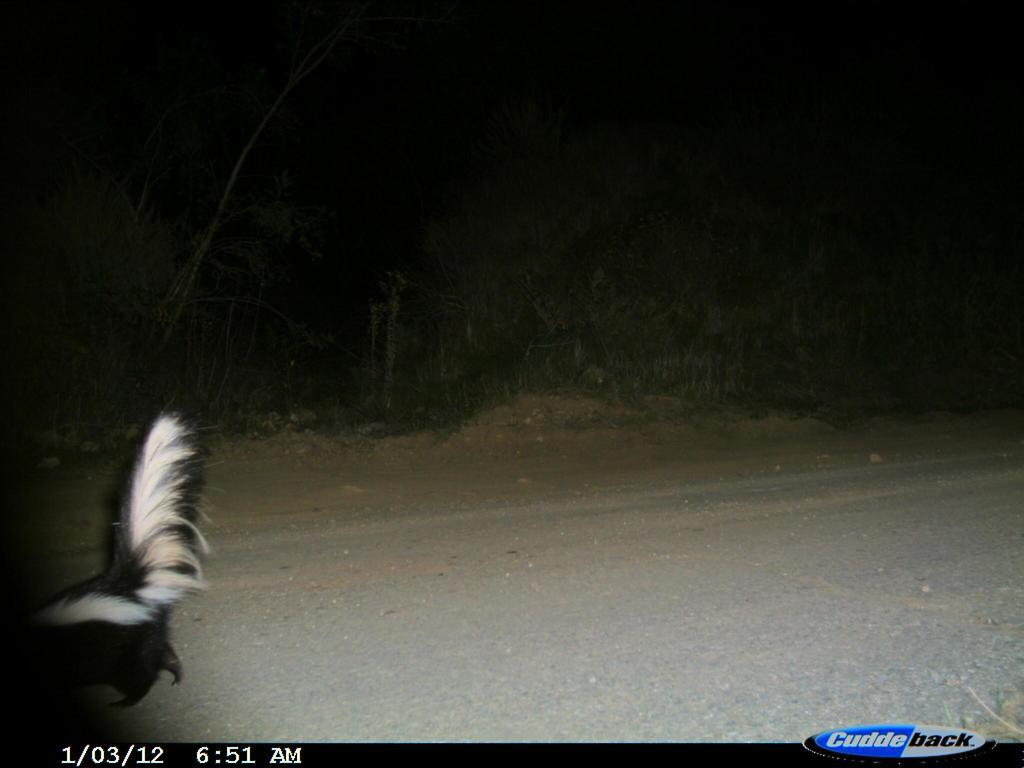skunk: (2, 388, 225, 742)
